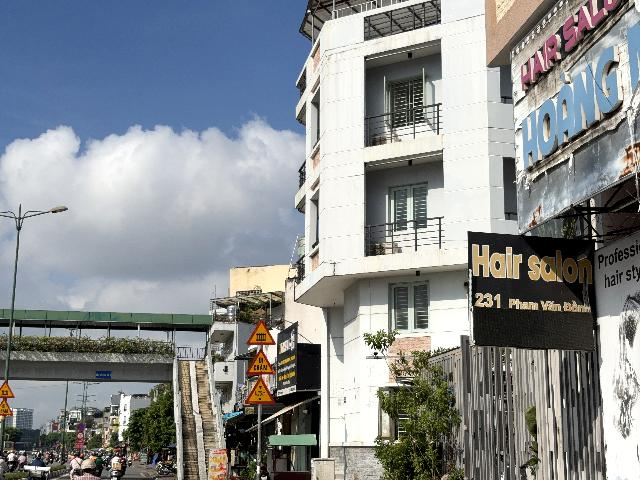chieu-cao-tinh-khong-thuc-te: (245, 377, 276, 405)
di-cham: (245, 348, 276, 374), (0, 398, 13, 416)
noi-giao-nhau-voi-duong-sat-co-rao-chan: (247, 319, 276, 345), (0, 380, 16, 398)
